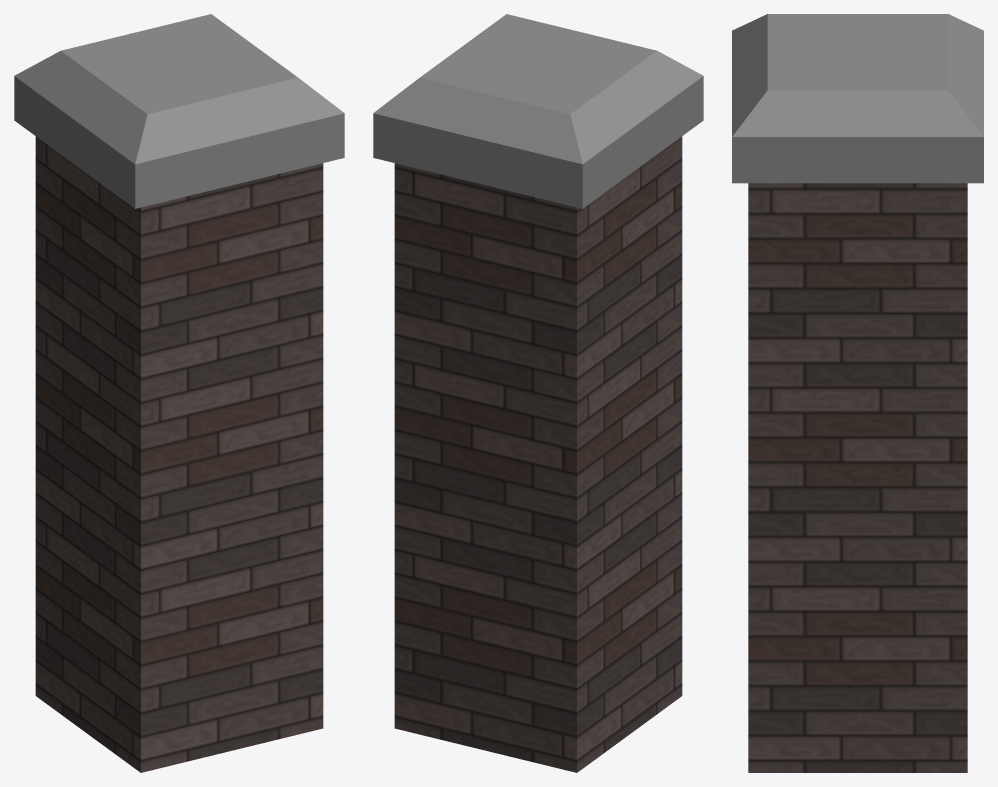
File: 3ST_School_pillar.fbx
3 views of the same model, side by side, from view 1: azimuth 30°, elevation 25°; view 2: azimuth 150°, elevation 25°; view 3: azimuth 270°, elevation 25° (orthographic). The views are drawn at different scales.
Parts seen in each view (by area): view 1: Cube.002; view 2: Cube.002; view 3: Cube.002.
Boxes of the visible parts, left/top/right/bottom form: Cube.002: left=14, top=14, right=344, bottom=772; Cube.002: left=373, top=14, right=703, bottom=772; Cube.002: left=732, top=14, right=983, bottom=772.
Size of the model in its own units: 74.57 by 220 by 74.57.
